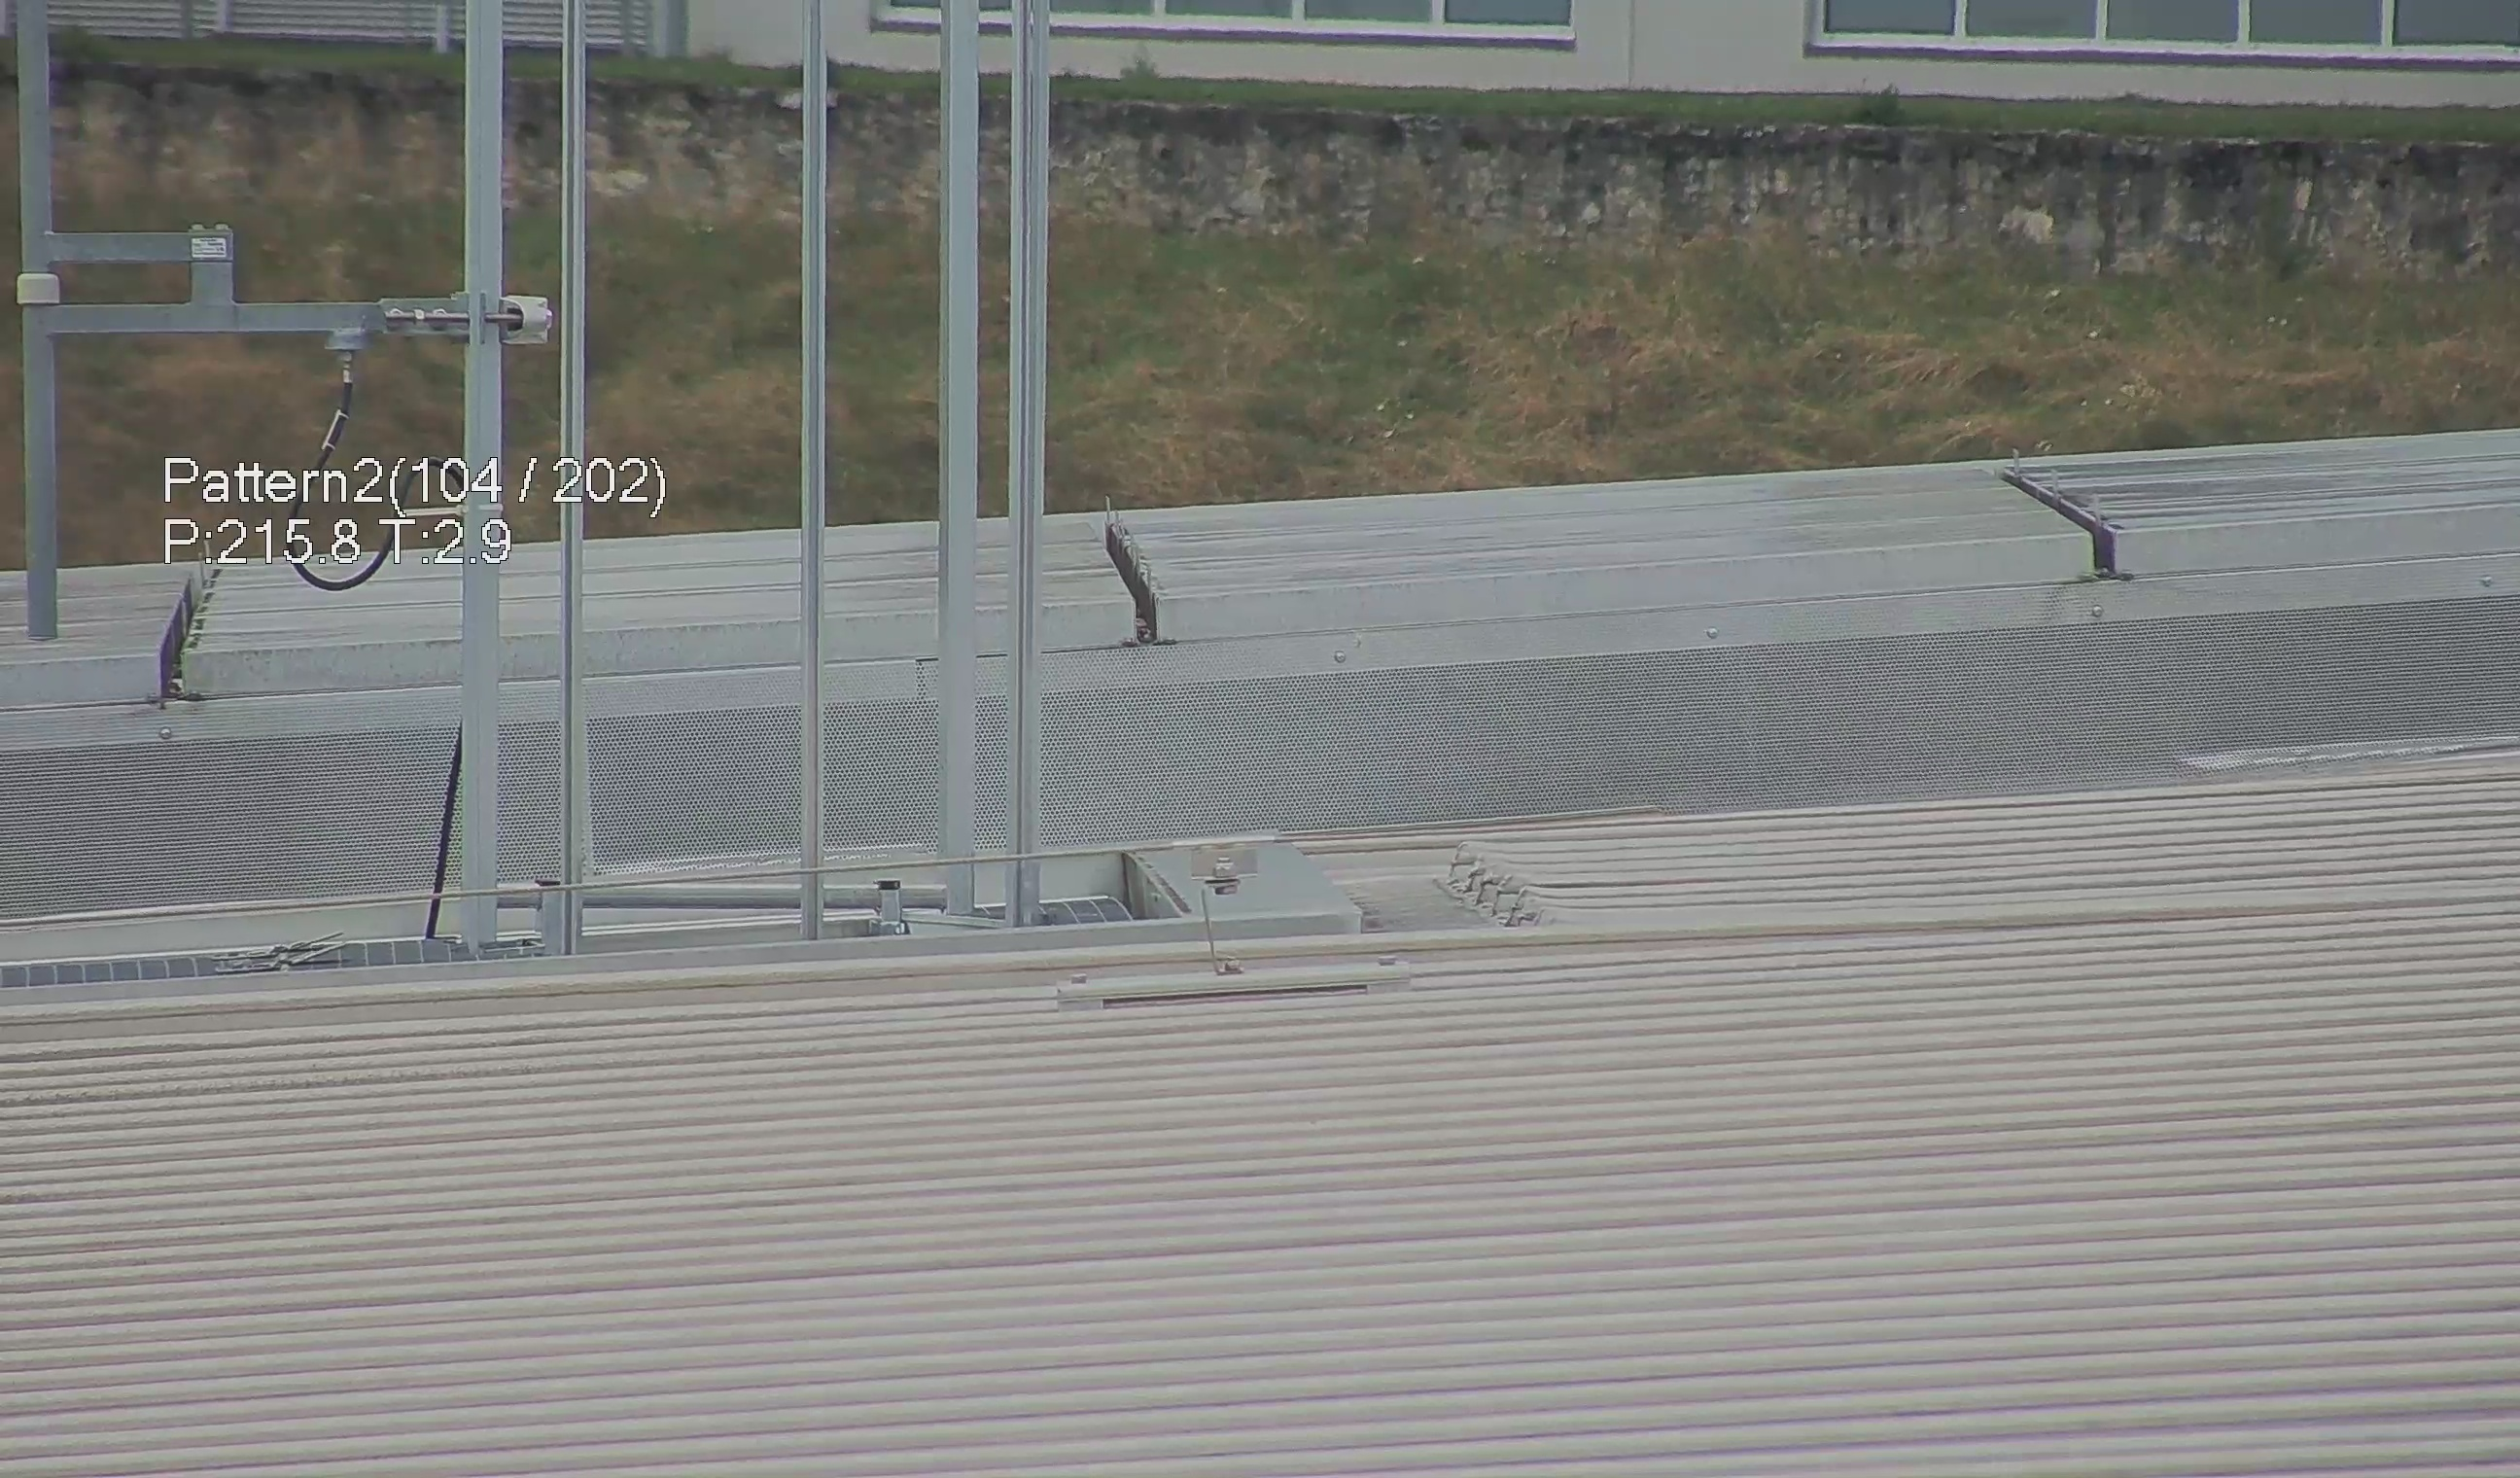Other: (1087, 500, 1173, 651)
